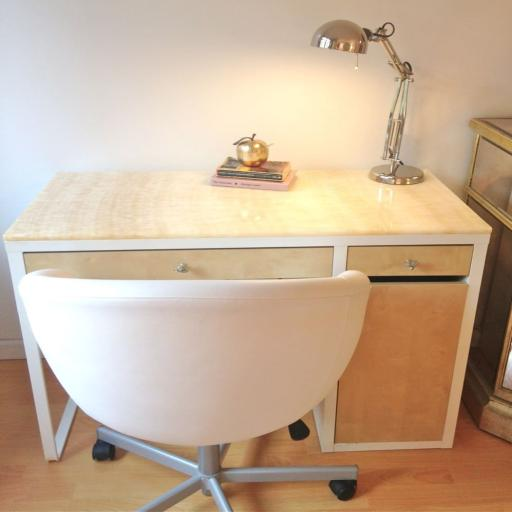chair: (18, 268, 372, 512)
desk: (2, 166, 492, 460)
wall: (0, 0, 512, 360)
